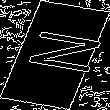N_E: (9, 29, 101, 81)
